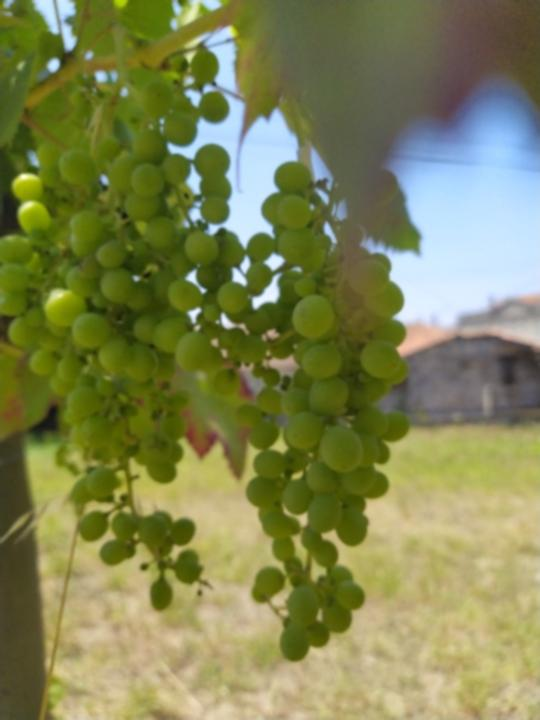grape: (7, 46, 245, 613), (242, 159, 412, 666)
